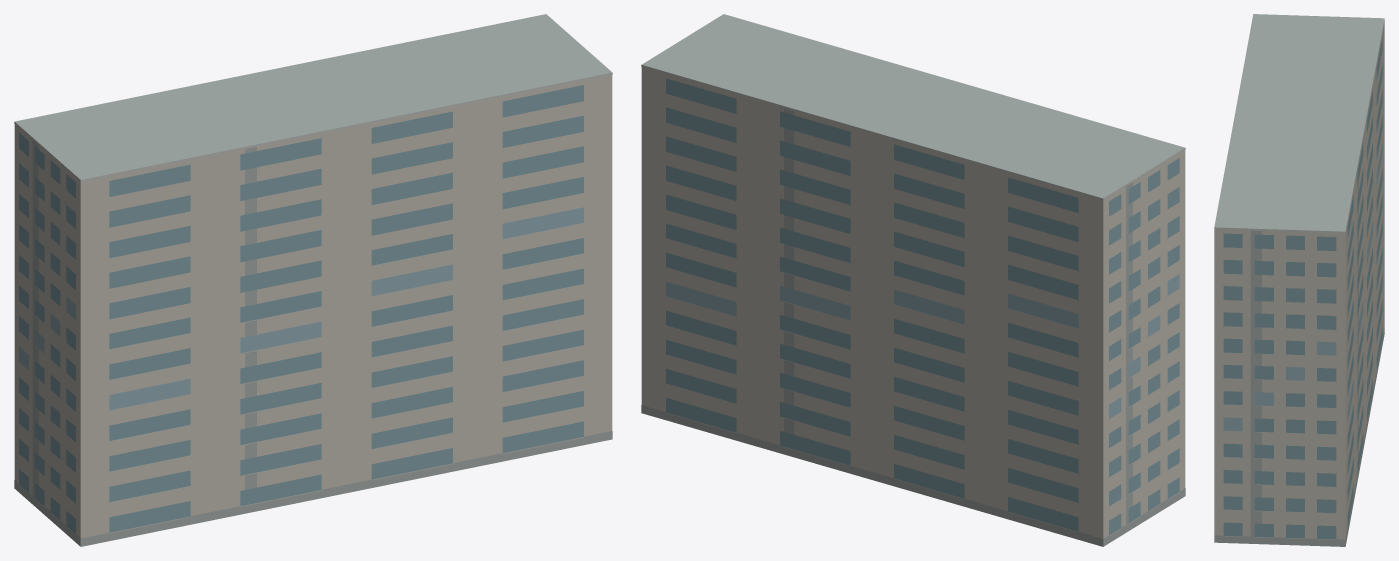
Rendered from residential-9d79c3aa-0543-46f7-928b-a0637f0c98d0.glb.
3 views of the same model, side by side, from view 1: azimuth 30°, elevation 25°; view 2: azimuth 150°, elevation 25°; view 3: azimuth 270°, elevation 25° (orthographic). The views are drawn at different scales.
Visible parts, largest first — view 1: residential-9d79c3aa-0543-46f7-928b-a0637f0c98d0.tmp; view 2: residential-9d79c3aa-0543-46f7-928b-a0637f0c98d0.tmp; view 3: residential-9d79c3aa-0543-46f7-928b-a0637f0c98d0.tmp.
Part boxes in pixels (x1,y1,x2,y2): residential-9d79c3aa-0543-46f7-928b-a0637f0c98d0.tmp: (14, 14, 612, 546); residential-9d79c3aa-0543-46f7-928b-a0637f0c98d0.tmp: (641, 14, 1185, 546); residential-9d79c3aa-0543-46f7-928b-a0637f0c98d0.tmp: (1214, 14, 1384, 546).
Size of the model in its own units: 54.2 by 36.6 by 17.95.
